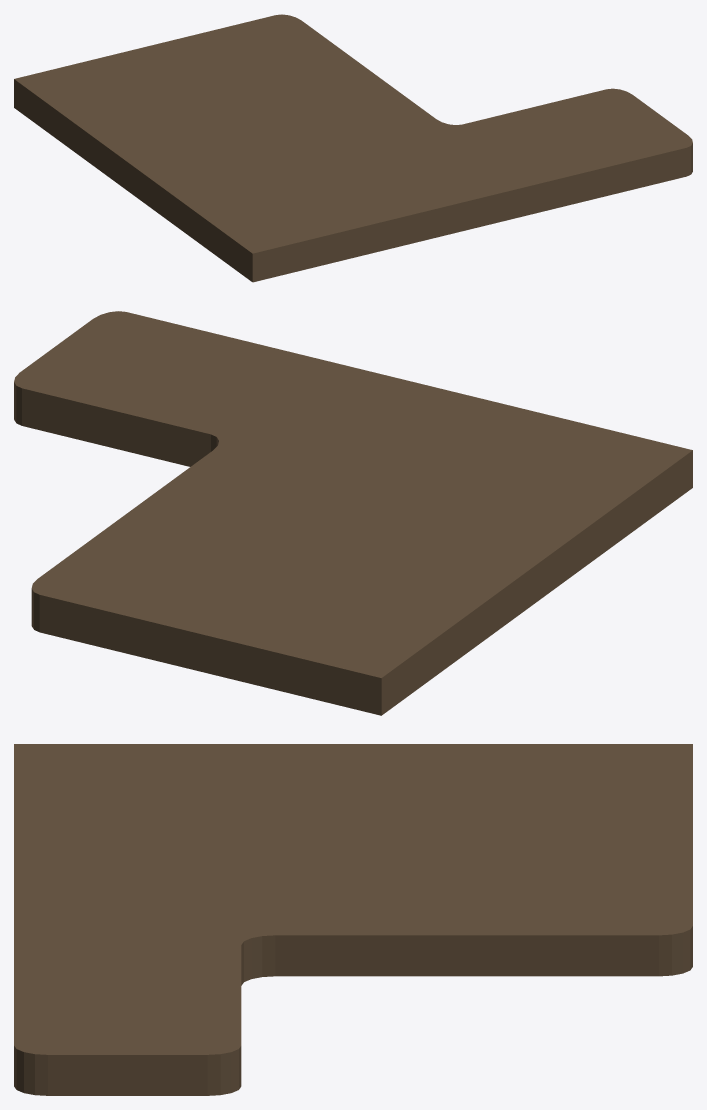
Rendered from Security-table2.glb.
3 renders of one model, top to bottom at view 1: azimuth 30°, elevation 25°; view 2: azimuth 150°, elevation 25°; view 3: azimuth 270°, elevation 25°, orthographic. The views are drawn at different scales.
Visible parts, largest first — view 1: Cube; view 2: Cube; view 3: Cube.
Boxes of the visible parts, left/top/right/bottom form: Cube: left=14, top=14, right=692, bottom=282; Cube: left=14, top=311, right=692, bottom=715; Cube: left=14, top=744, right=692, bottom=1095.
Size of the model in its own units: 6.5 by 0.4 by 6.
